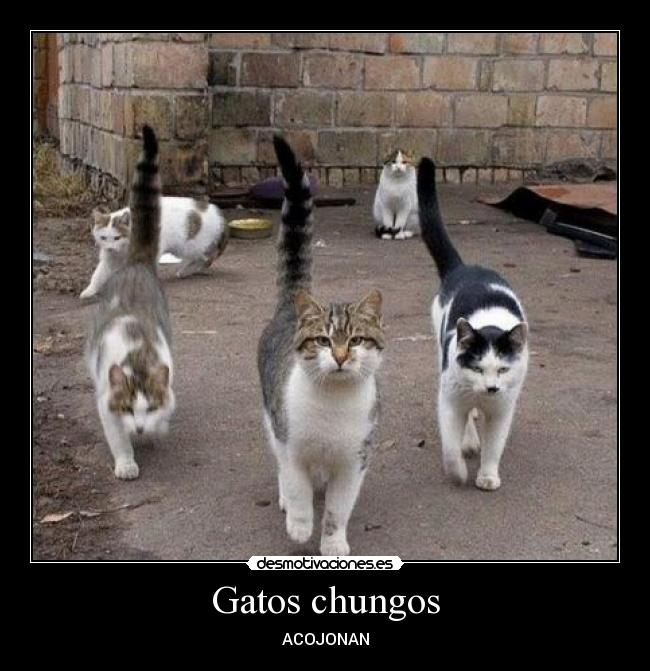cat: (246, 234, 391, 559), (416, 195, 544, 496), (74, 250, 207, 471), (60, 179, 266, 295), (355, 133, 449, 269)
